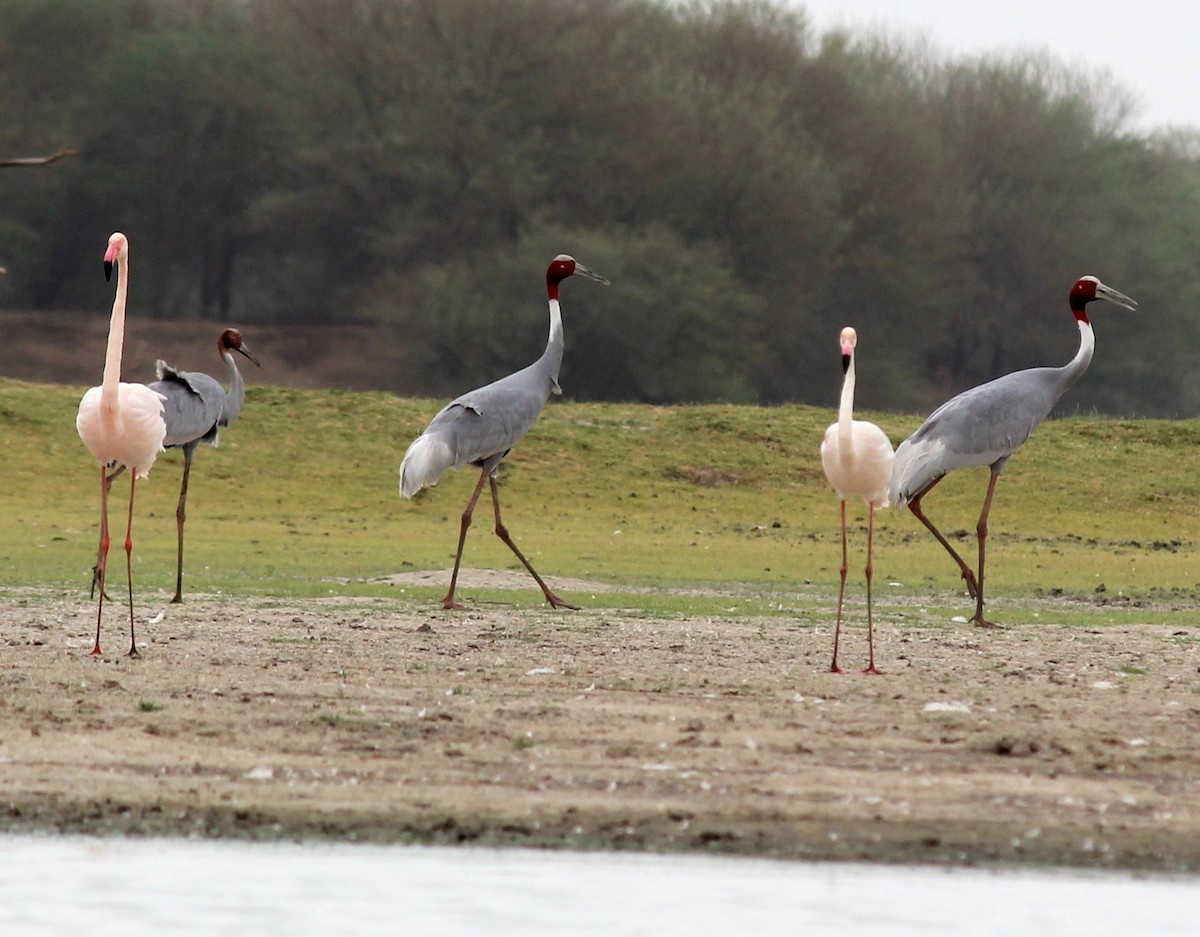crane: (902, 275, 1145, 629), (398, 247, 621, 632), (150, 325, 286, 606)
